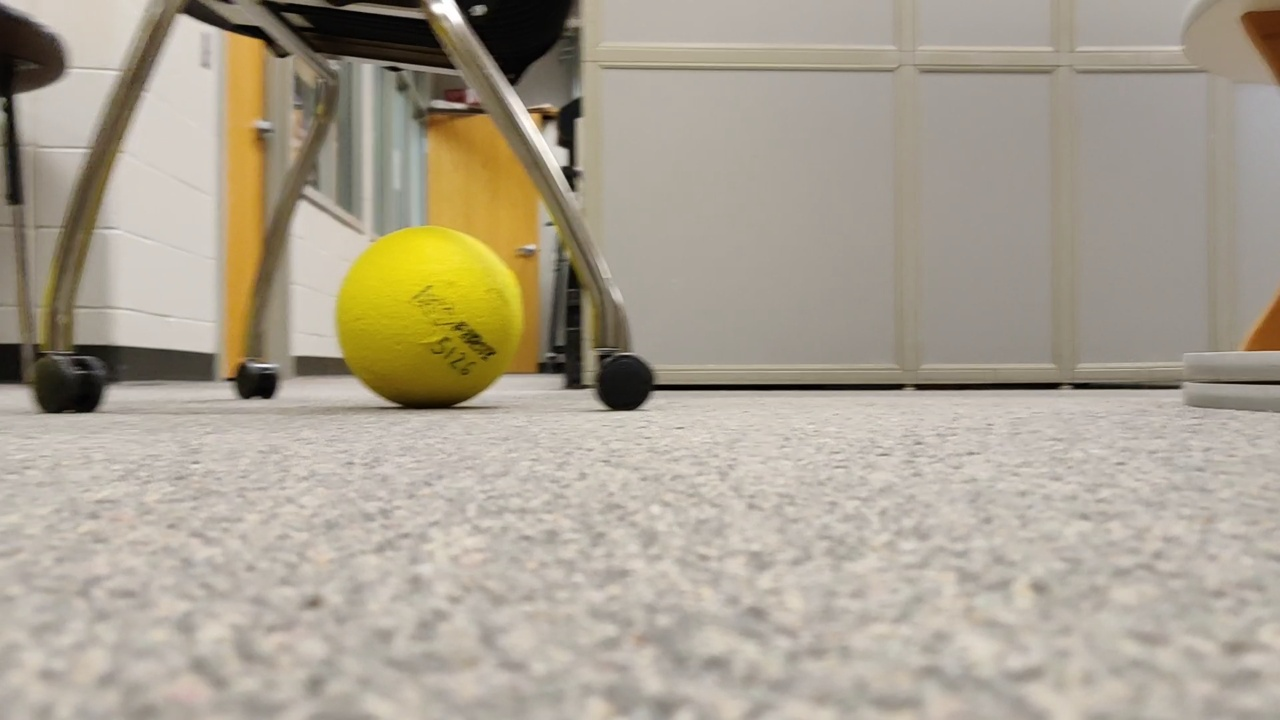Ball: (342, 221, 512, 403)
